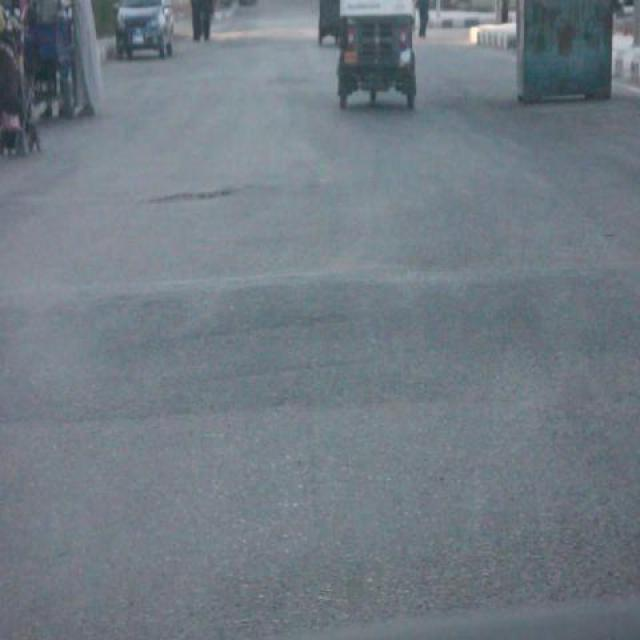Pothole: (157, 178, 248, 216)
Unmarked Bump: (0, 258, 640, 436)
